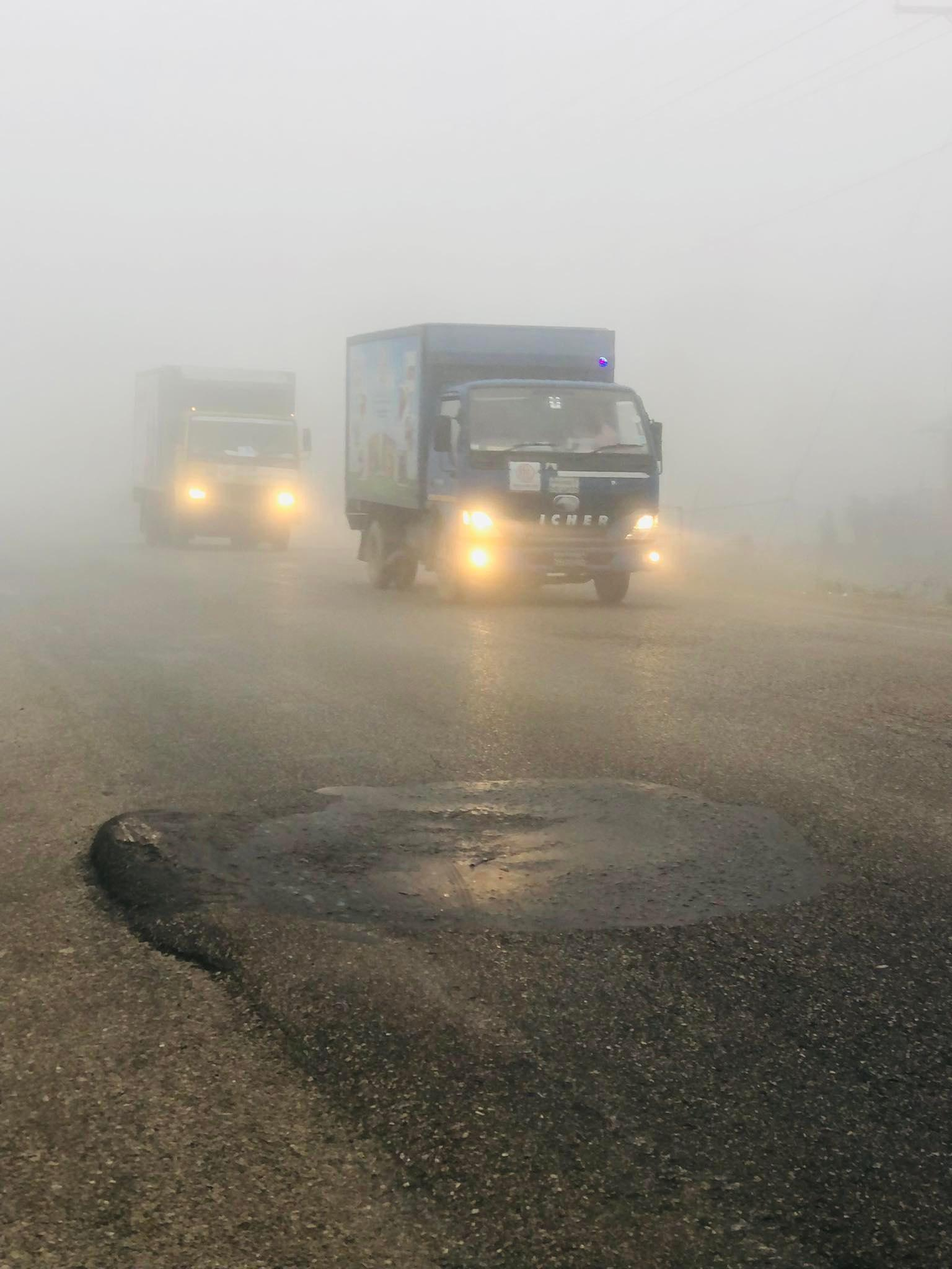Truck: (322, 307, 736, 638), (123, 345, 325, 566)
